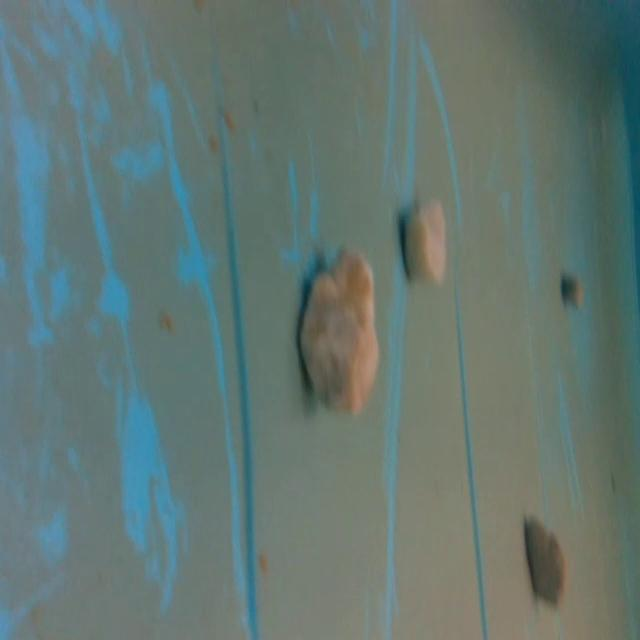rock: (290, 242, 386, 422), (518, 508, 577, 612), (402, 190, 448, 286), (557, 268, 584, 314)
